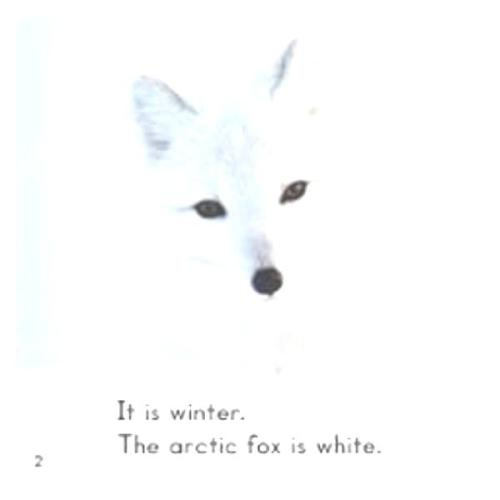arctic_fox-endangered: (122, 39, 337, 302)
